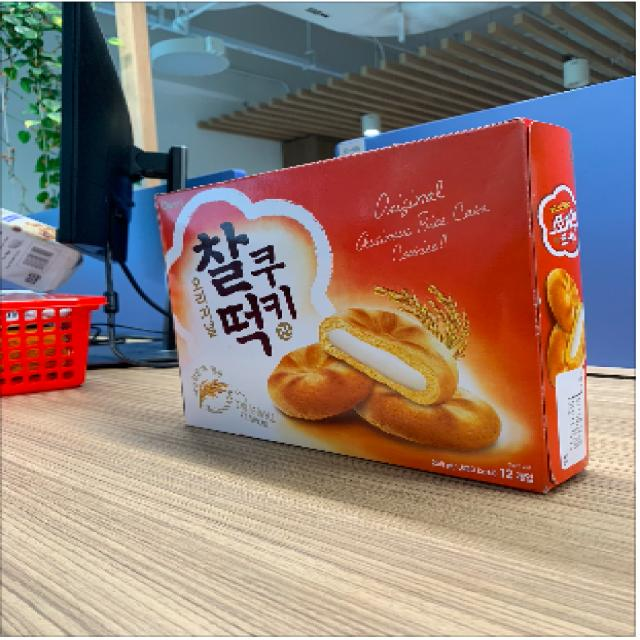object_name: (158, 176, 593, 469)
